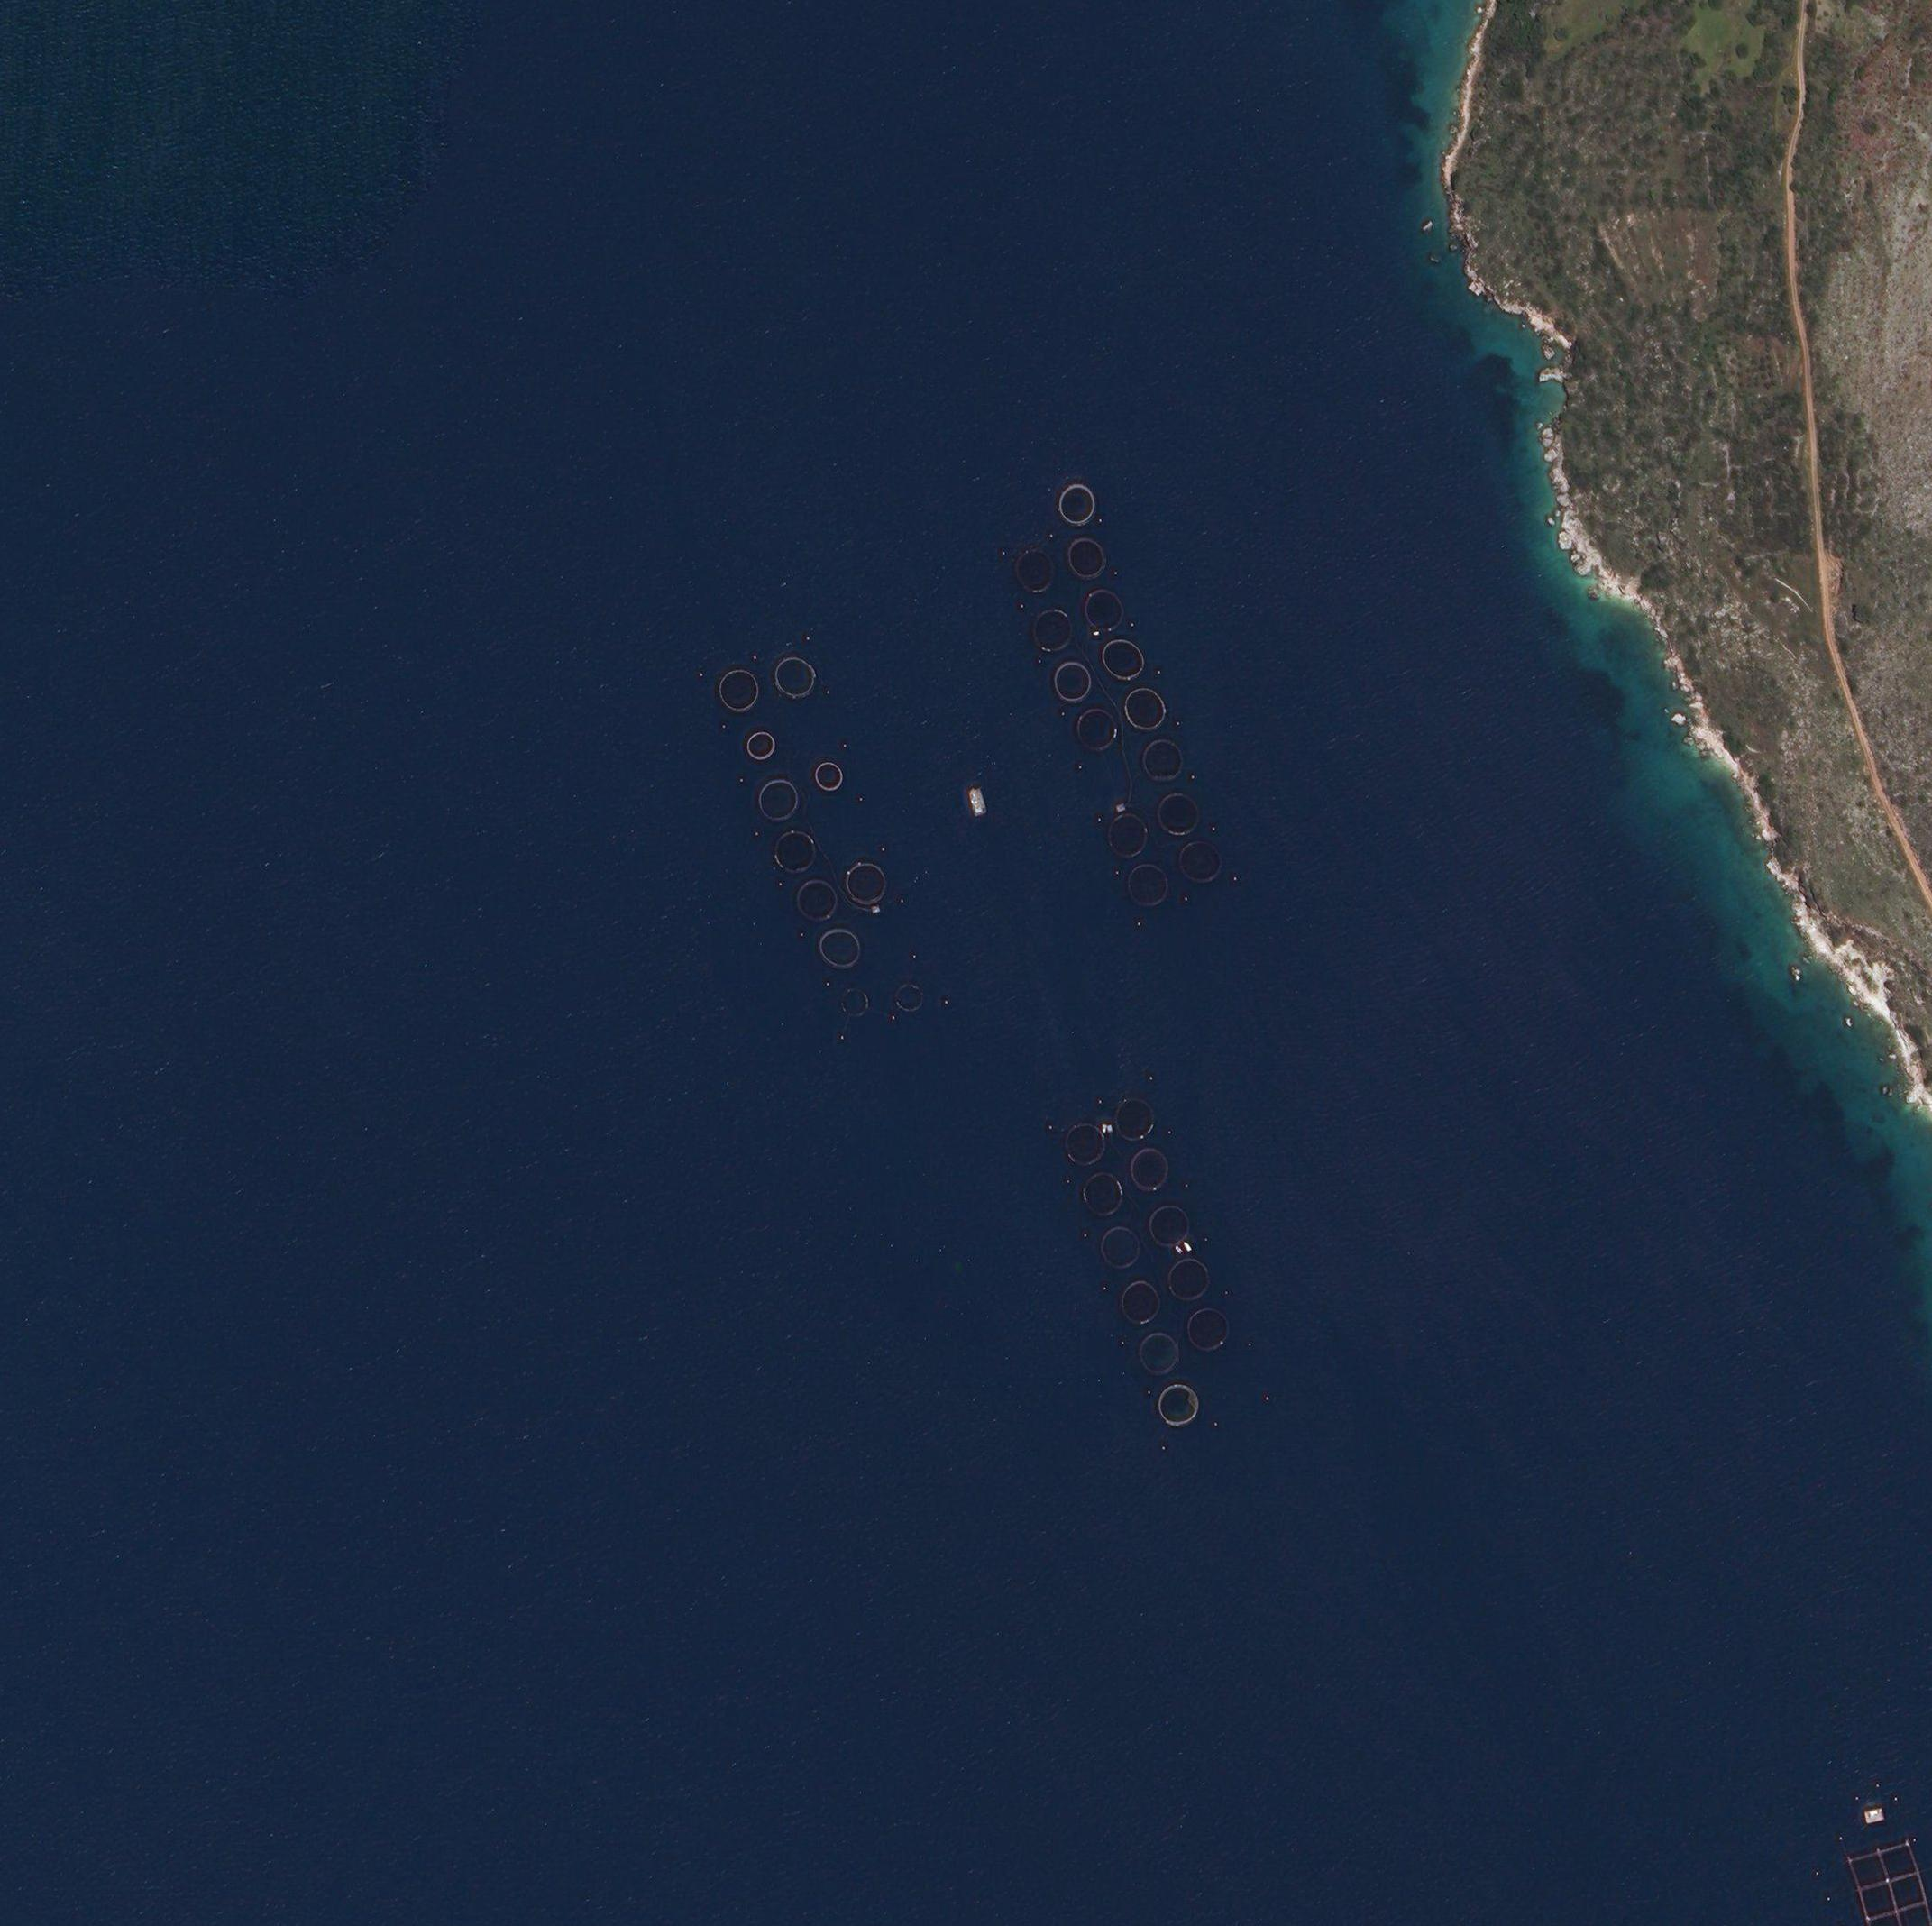c: (1105, 811, 1149, 859), (772, 656, 818, 700), (1165, 1258, 1211, 1302), (1186, 1307, 1230, 1353), (1063, 1123, 1107, 1168), (1156, 1383, 1200, 1427), (1178, 840, 1222, 884), (1123, 688, 1167, 732), (1137, 1332, 1179, 1377), (1100, 638, 1146, 681), (1082, 1171, 1123, 1219), (758, 778, 800, 822), (772, 831, 816, 873), (795, 880, 839, 922), (818, 928, 862, 970), (1126, 864, 1169, 908), (1075, 709, 1119, 751), (1031, 608, 1074, 653), (1082, 589, 1126, 631), (1100, 1226, 1141, 1272), (717, 668, 760, 711), (844, 862, 887, 905), (1112, 1099, 1155, 1141), (1149, 1206, 1192, 1249), (1156, 792, 1199, 834), (1142, 739, 1185, 781), (1015, 550, 1056, 594), (1121, 1279, 1160, 1325), (1128, 1148, 1169, 1191), (1054, 661, 1093, 704), (1066, 538, 1105, 580), (1058, 483, 1095, 526), (744, 730, 776, 762), (839, 986, 871, 1018), (814, 760, 844, 792), (894, 982, 925, 1012)
